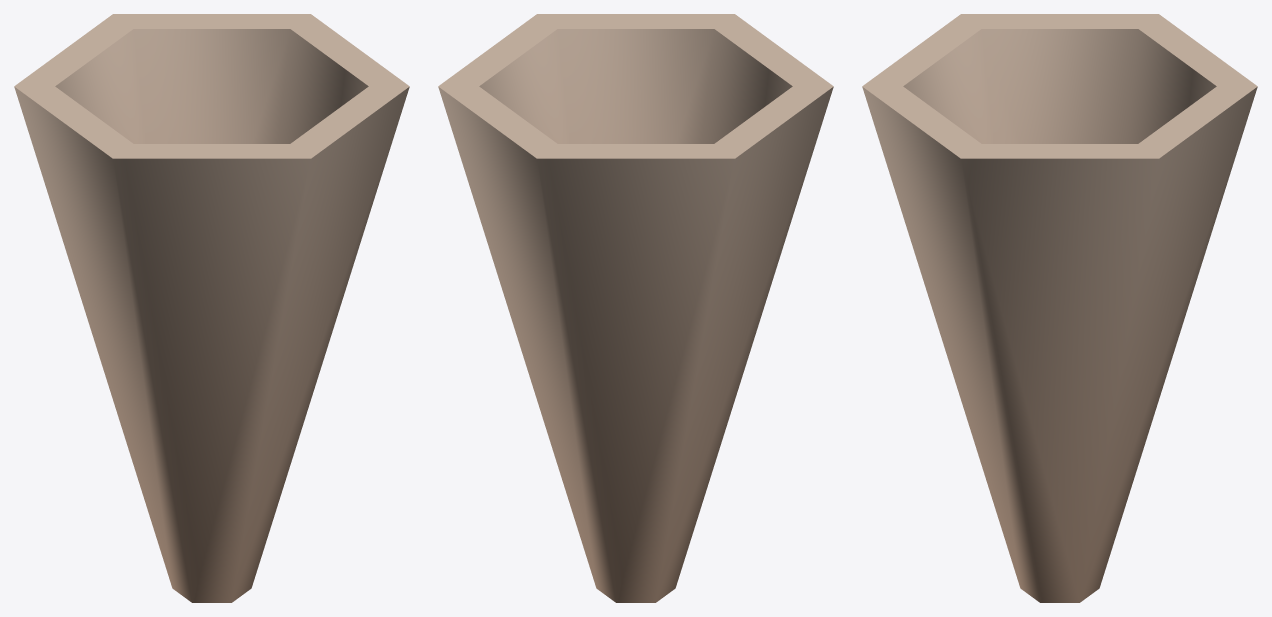
The model's file is ice-cream-cne.glb.
The picture shows the model from 3 angles, left to right: view 1: azimuth 30°, elevation 25°; view 2: azimuth 150°, elevation 25°; view 3: azimuth 270°, elevation 25°; orthographic projection.
Visible parts, largest first — view 1: ice-cream-cne; view 2: ice-cream-cne; view 3: ice-cream-cne.
Boxes of the visible parts, <box> form: ice-cream-cne: <box>14,14,409,602</box>; ice-cream-cne: <box>438,14,833,602</box>; ice-cream-cne: <box>862,14,1257,602</box>.
Bounding box in the file's own units: 0.1845 × 0.2982 × 0.213.
